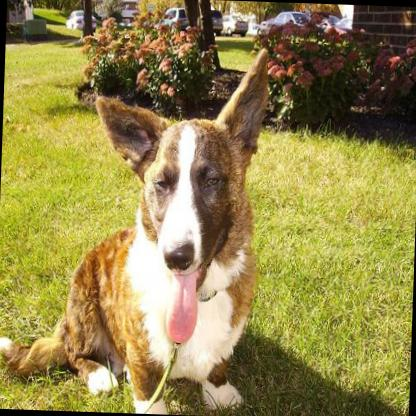Cardigan: (0, 37, 270, 416)
